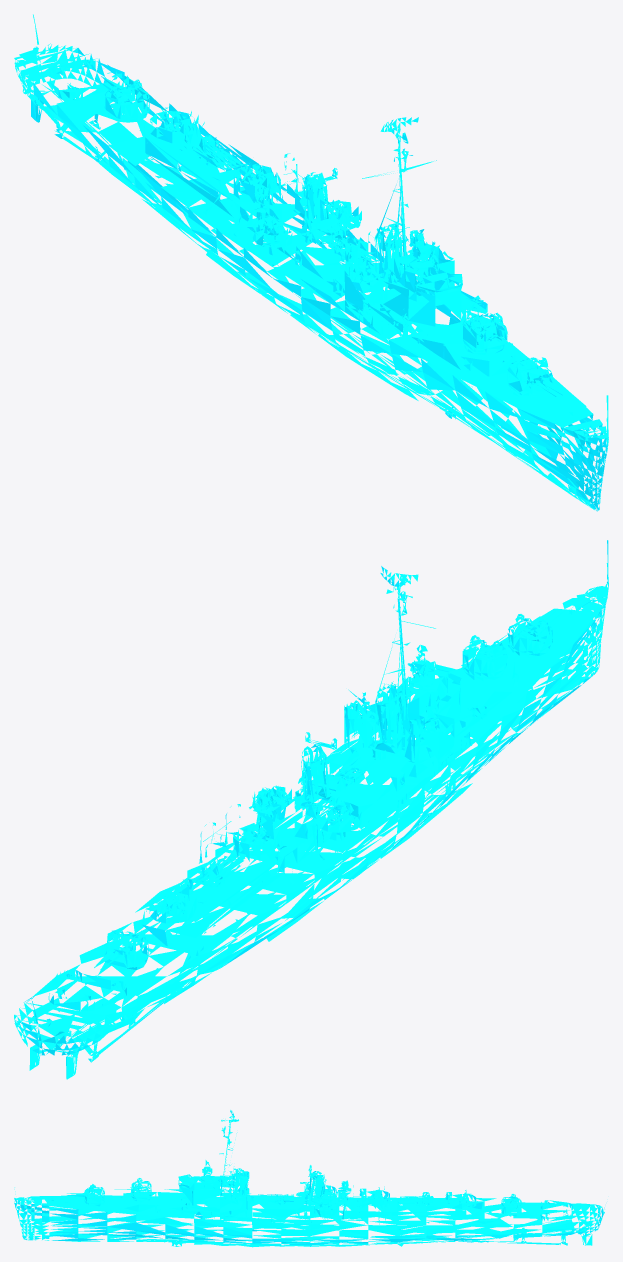
Rendered from Joshua_Humphreys.glb.
3 views of the same model, one above another, from view 1: azimuth 30°, elevation 25°; view 2: azimuth 150°, elevation 25°; view 3: azimuth 270°, elevation 25° (orthographic). The views are drawn at different scales.
Bounding box in the file's own units: 0.975 × 2.33 × 9.37.
